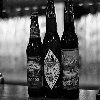beer: (25, 12, 46, 93)
